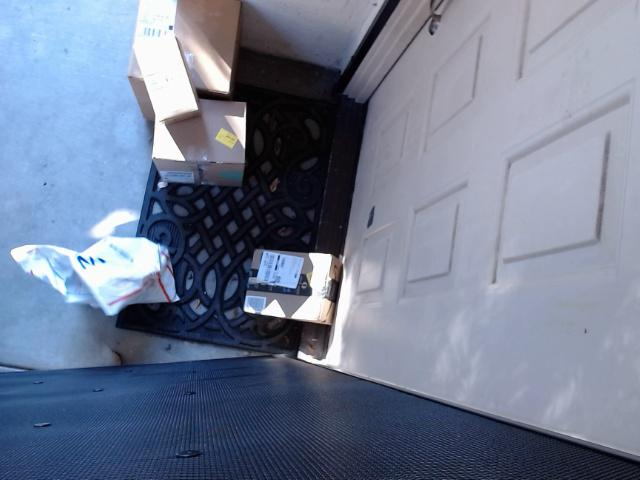box: (142, 92, 261, 203), (230, 232, 352, 339), (124, 2, 251, 103), (134, 25, 199, 121)
plastic_bag: (6, 226, 189, 331)
